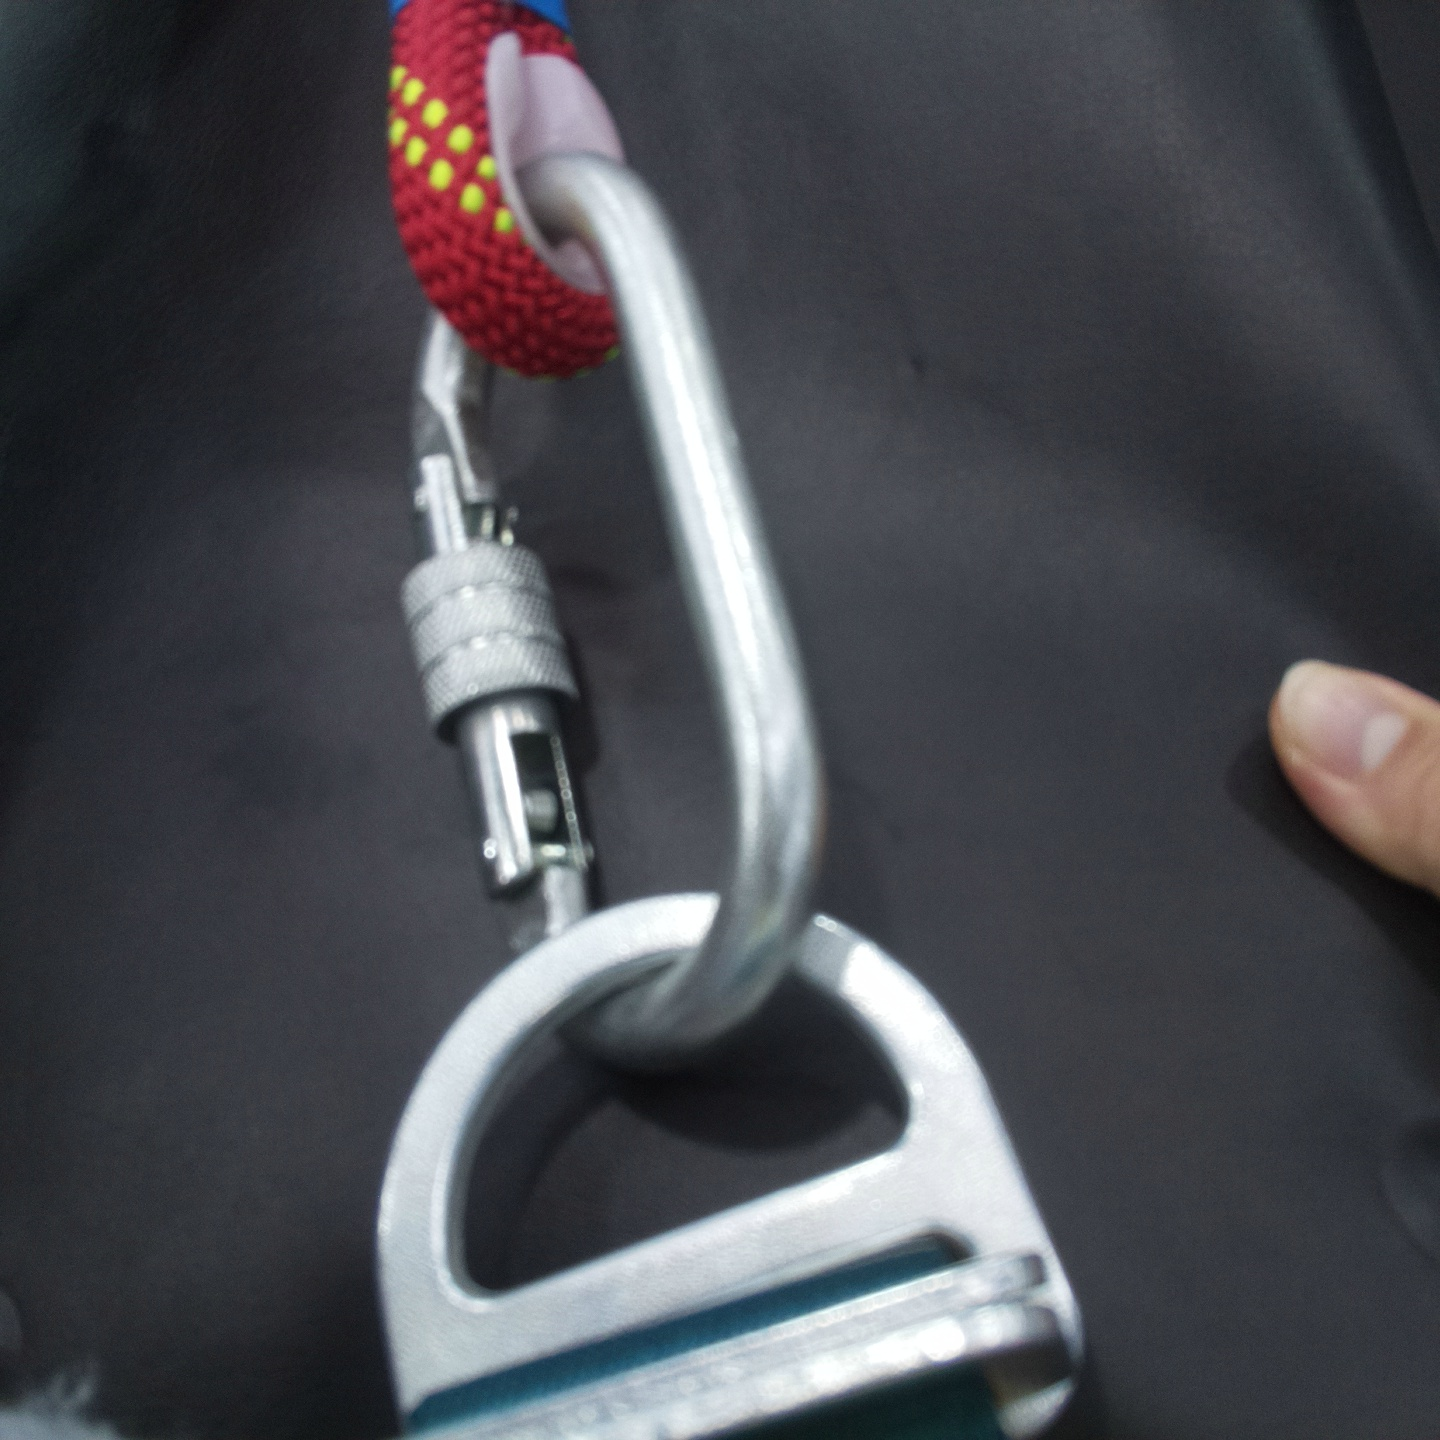SUCCESS: (371, 411, 1047, 1382)
